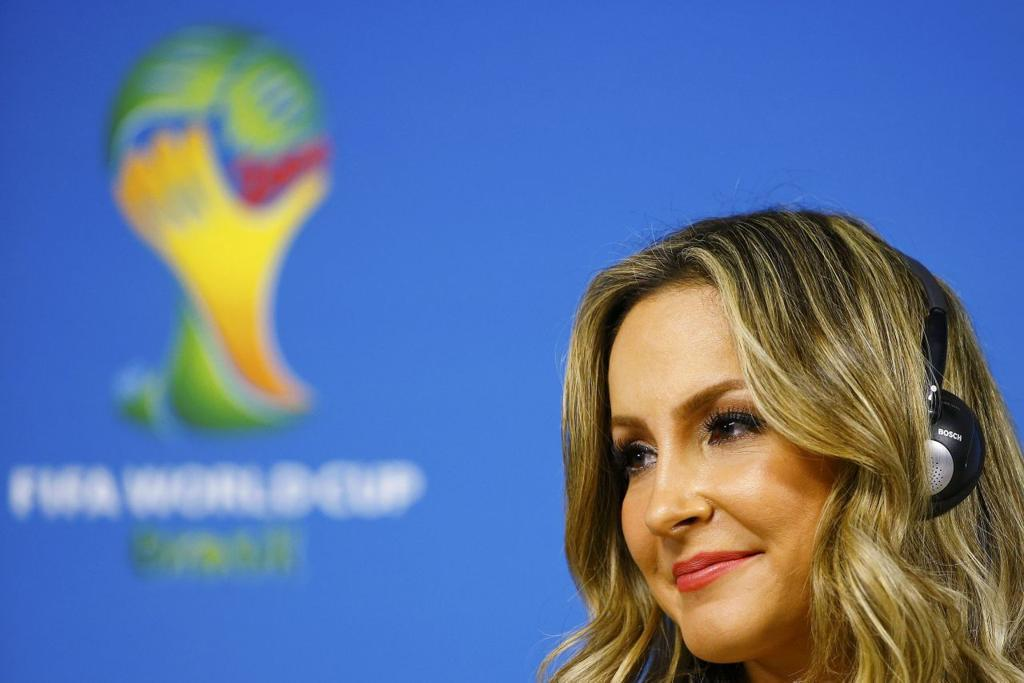face: (609, 295, 877, 663)
